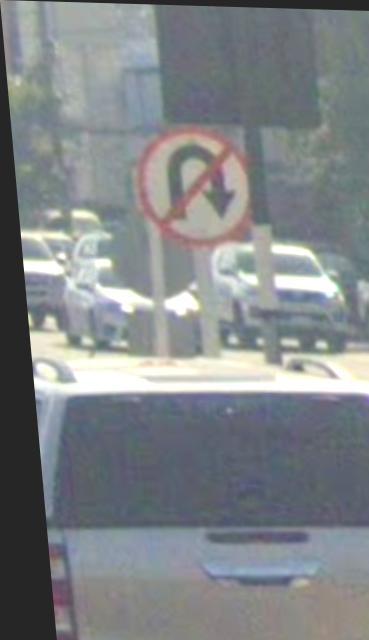not_u_turn_right: (133, 129, 254, 244)
